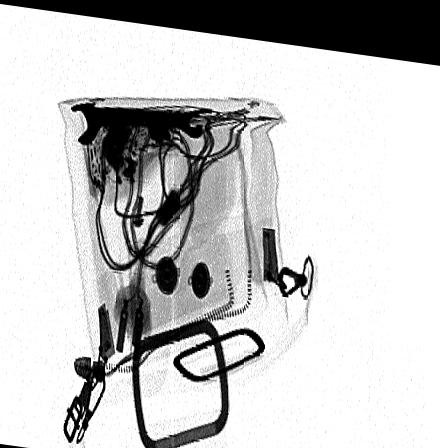Wrench: (69, 100, 205, 144)
